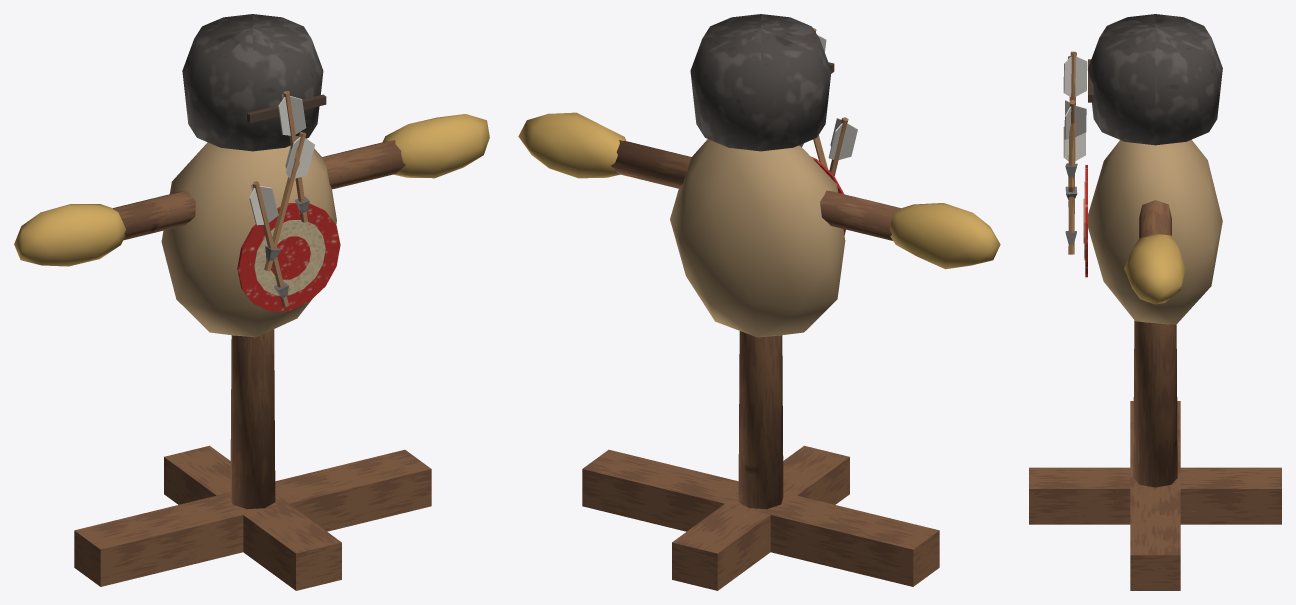
Rendered from training_dummy.glb.
3 views of the same model, side by side, from view 1: azimuth 30°, elevation 25°; view 2: azimuth 150°, elevation 25°; view 3: azimuth 270°, elevation 25° (orthographic). The views are drawn at different scales.
Parts seen in each view (by area): view 1: training_dummy_dummy, training_dummy_post; view 2: training_dummy_dummy, training_dummy_post; view 3: training_dummy_dummy, training_dummy_post.
Boxes of the visible parts, bbox=[...] form: training_dummy_dummy: bbox=[14, 14, 489, 337]; training_dummy_post: bbox=[74, 140, 431, 590]; training_dummy_dummy: bbox=[518, 14, 1000, 337]; training_dummy_post: bbox=[582, 140, 939, 590]; training_dummy_dummy: bbox=[1063, 14, 1222, 324]; training_dummy_post: bbox=[1029, 200, 1281, 590].
Size of what is drawn, in the model's own units: 1.86 by 1.91 by 0.9.
10 materials, 10 textured.
